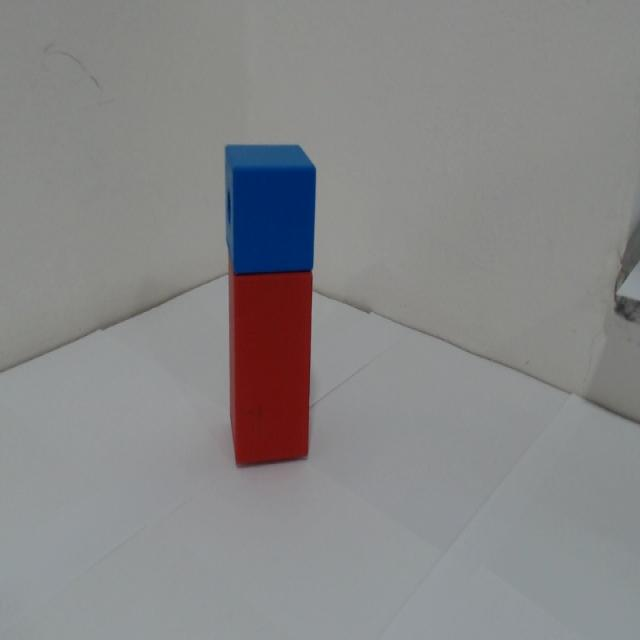cube: (223, 140, 322, 269)
